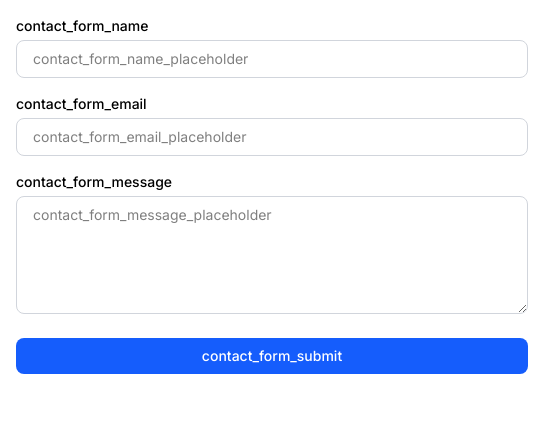
it: ContactForm › shows generic error when server returns no statusMessage
In the field with id "contact-name": (272, 59) top-left (16, 40), bottom-right (528, 78), type "Test"
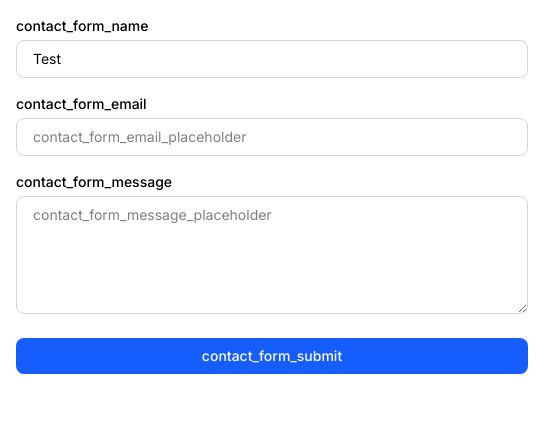
In the field with id "contact-email": (272, 137) top-left (16, 118), bottom-right (528, 156), type "test@example.com"
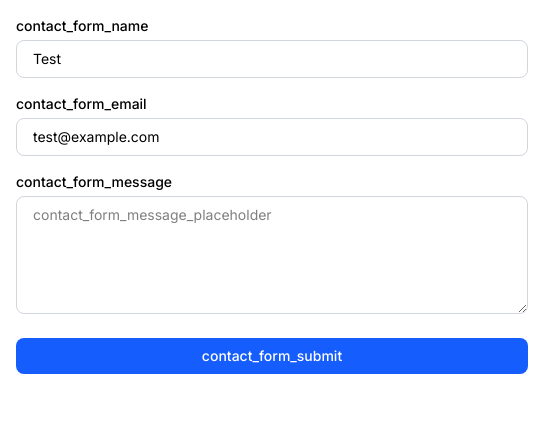
In the text box with id "contact-message": (272, 255) top-left (16, 196), bottom-right (528, 314), type "Hello"
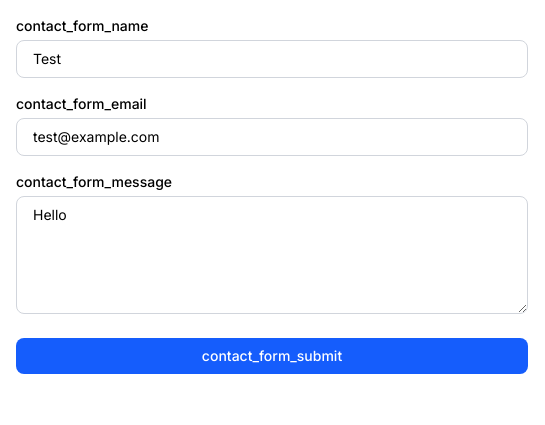
Submit the form
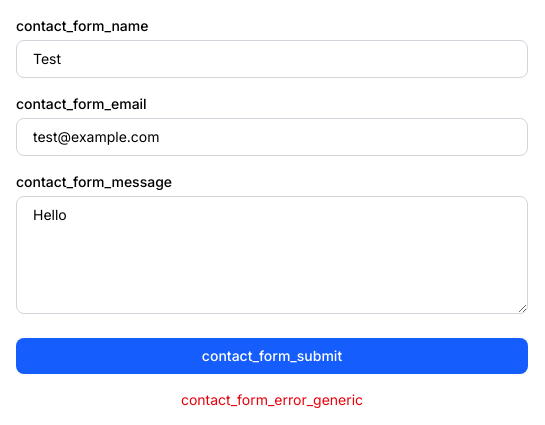
Now the text "contact_form_error_generic" is shown, box top-left (181, 391), bottom-right (363, 408)
